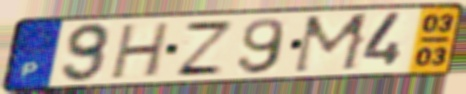4: (360, 10, 408, 73)
9: (57, 20, 112, 85), (235, 17, 288, 76)
H: (107, 20, 174, 82)
M: (289, 10, 375, 76)
Z: (172, 20, 238, 77)
